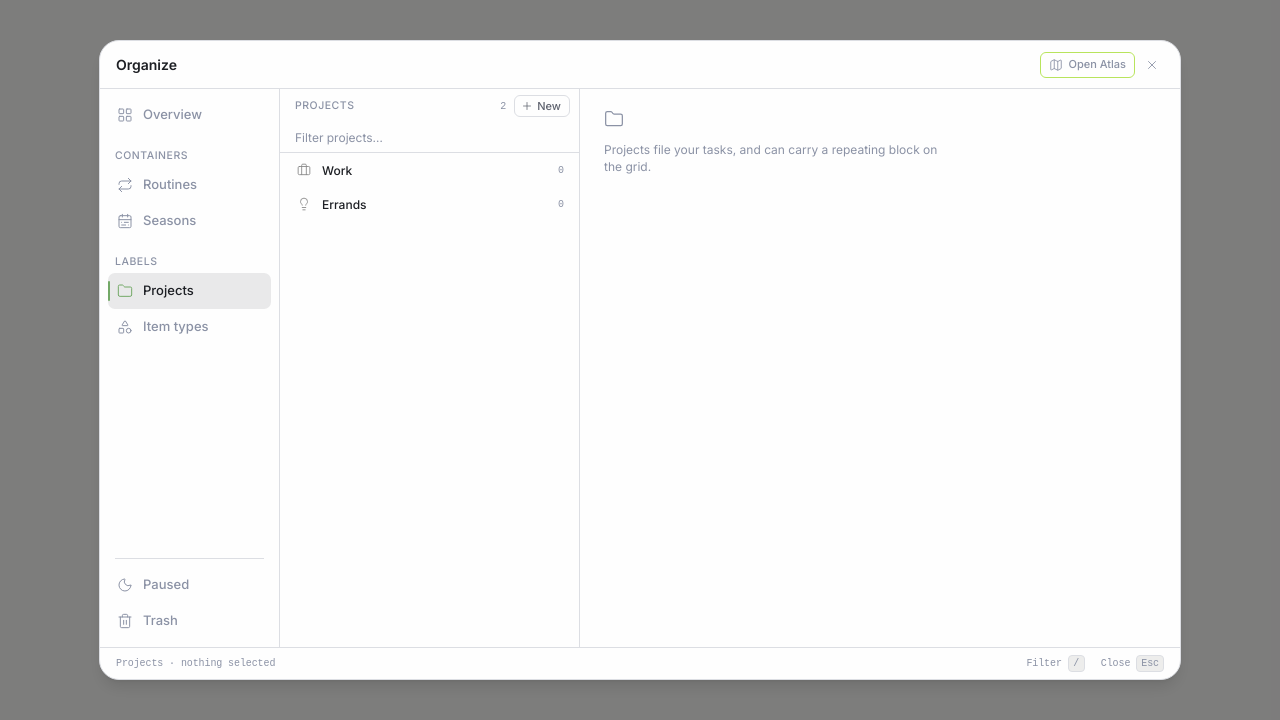
the preview landing fences no names › a project removed AFTER the landing is still held (the fence is intact)
Click the button with test id "project-new". click: (542, 106)
box: top-left (514, 95), bottom-right (570, 117)
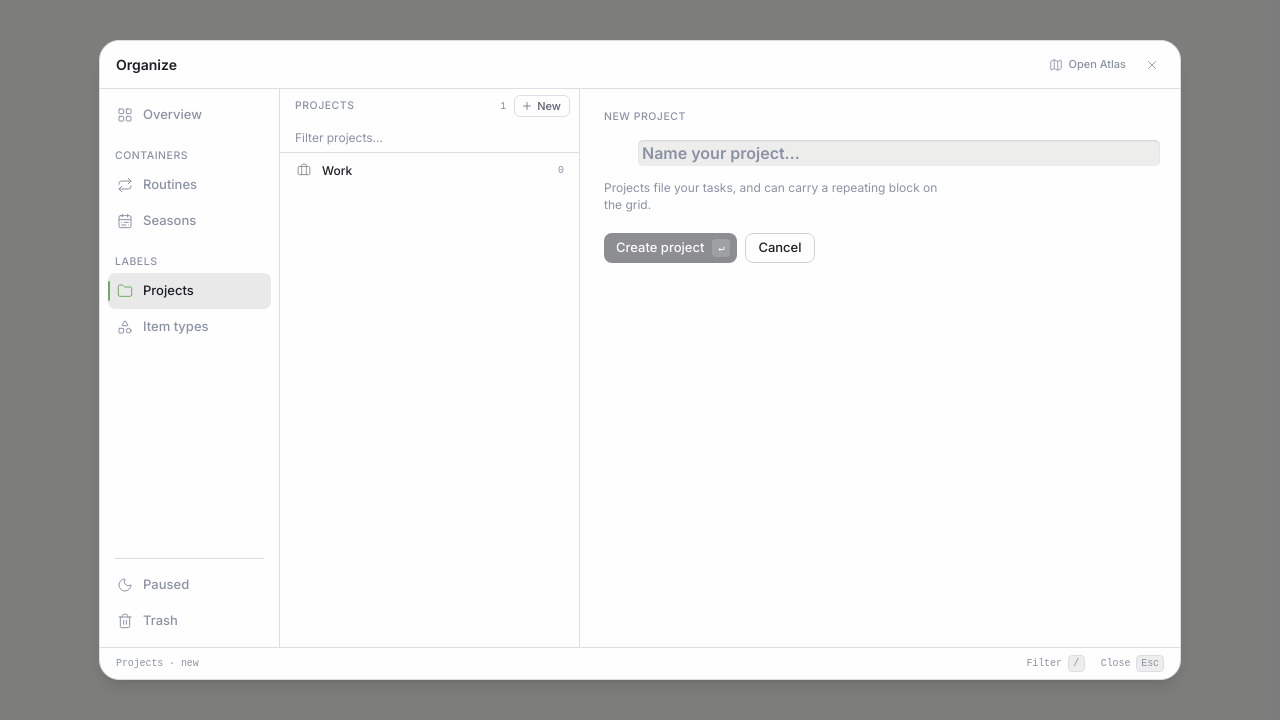
Type "Errands" into the field with test id "project-new-name". click: (899, 153)
box: top-left (638, 140), bottom-right (1160, 166)
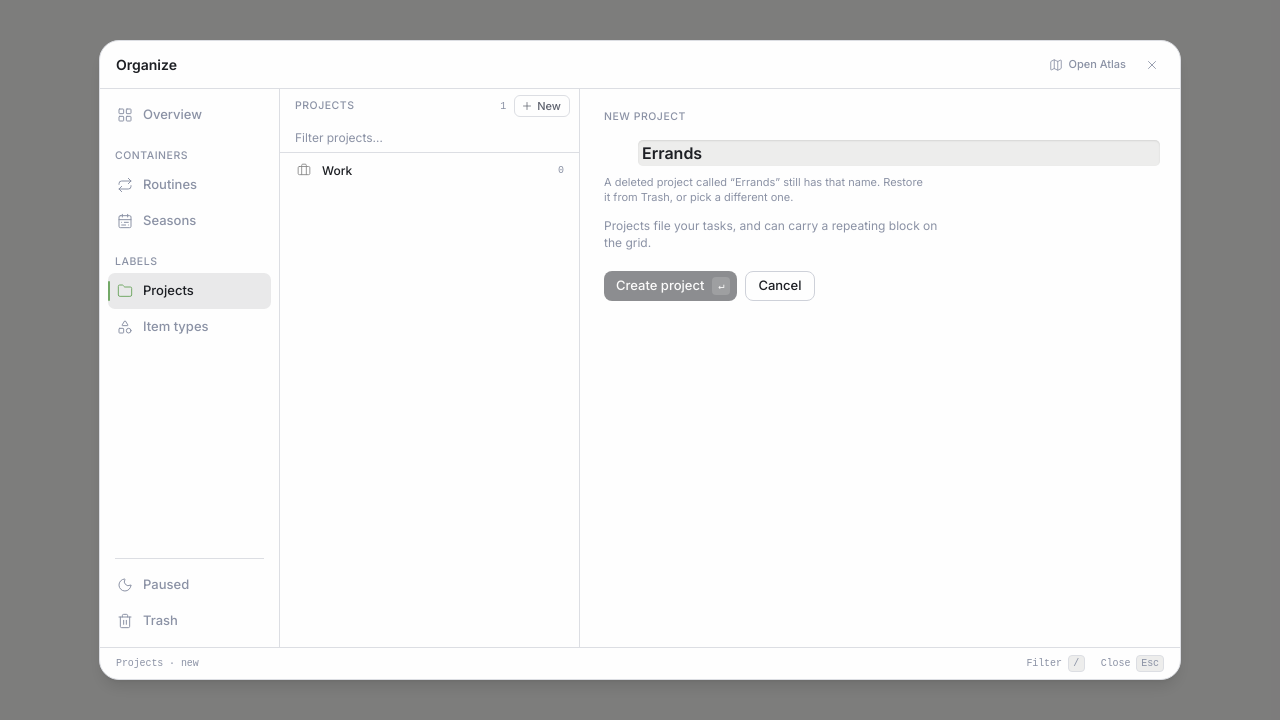
Check: the text with test id "project-new-problem" shows "Trash", box top-left (604, 175), bottom-right (923, 204)
